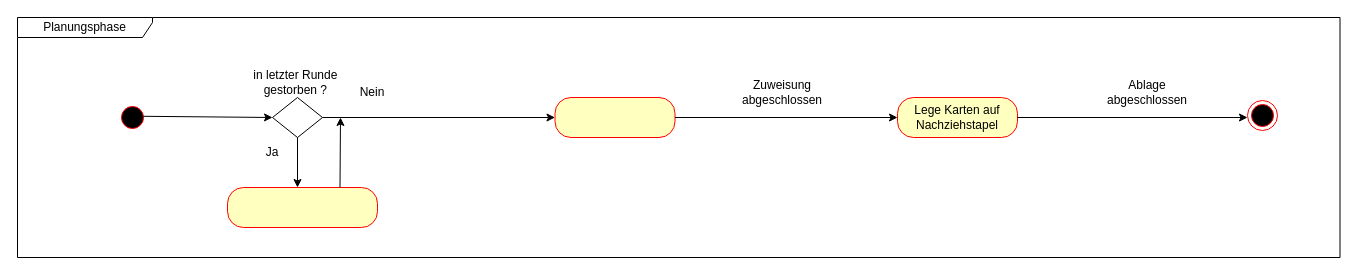
Some shapes in this 1358 by 275 pixel diagram are drawn without their labels. Each missing label, with the centre of its shape:
"Karten dem Spieler zuweisen" belongs at pixel 614 117.
"Kartenauswahl berechnen" belongs at pixel 302 207.
